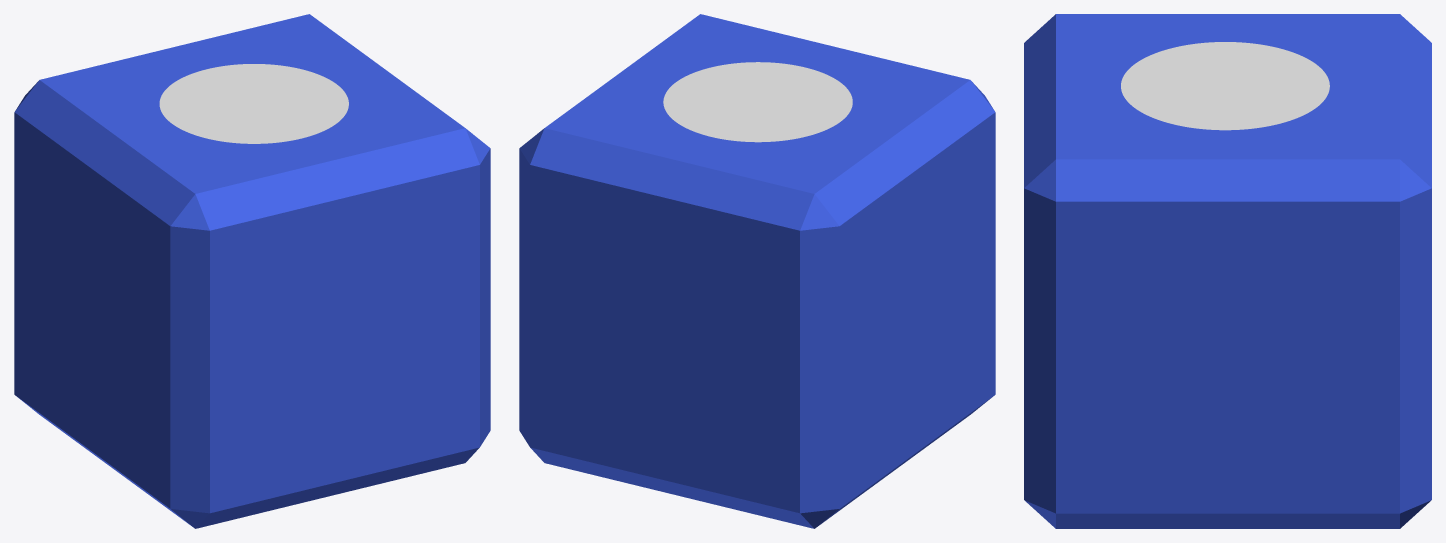
The model's file is CubeWithCircle.fbx.
The picture shows the model from 3 angles, left to right: view 1: azimuth 30°, elevation 25°; view 2: azimuth 150°, elevation 25°; view 3: azimuth 270°, elevation 25°; orthographic projection. The views are drawn at different scales.
Visible parts, largest first — view 1: Circle..002; view 2: Circle..002; view 3: Circle..002.
Boxes of the visible parts, box(x1,y1,x2,y2) form: Circle..002: box(14, 14, 490, 528); Circle..002: box(519, 14, 995, 528); Circle..002: box(1024, 14, 1431, 528).
Size of the model in its own units: 200 by 200 by 200.
